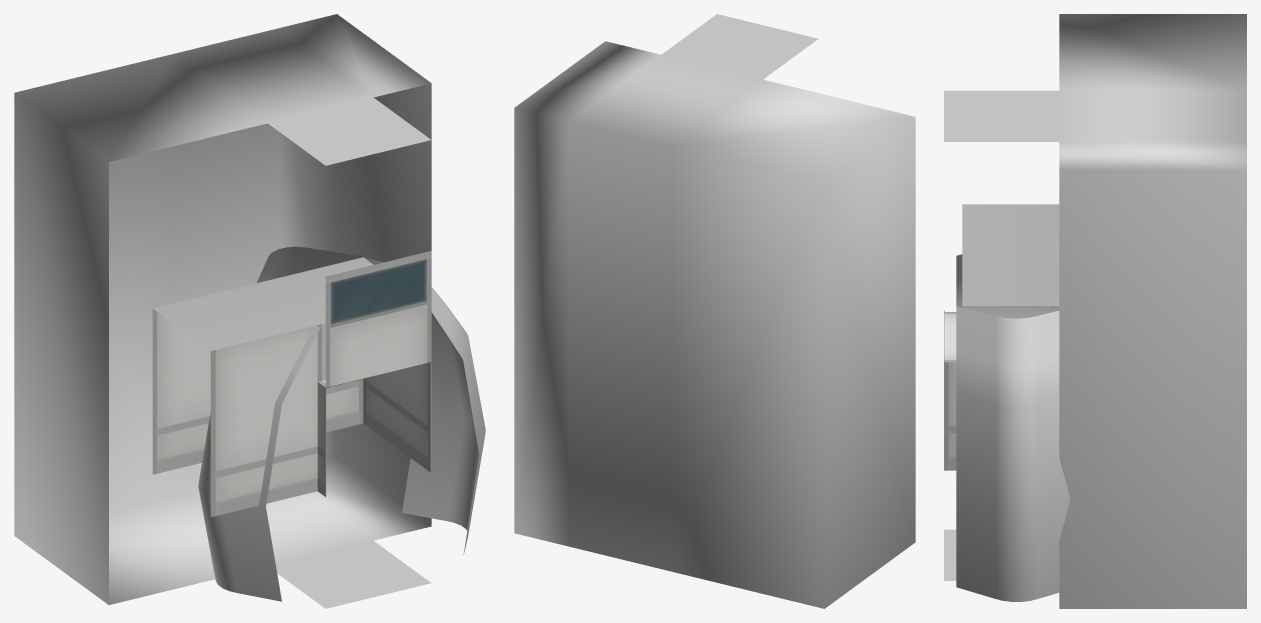
File: entrance-down-2-m.glb
3 renders of one model, left to right at view 1: azimuth 30°, elevation 25°; view 2: azimuth 150°, elevation 25°; view 3: azimuth 270°, elevation 25°, orthographic. The views are drawn at different scales.
Parts seen in each view (by area): view 1: RoomSpWallSimplePanel00__RoomSpWallSimplePanel00EntranceDown (×5); view 2: RoomSpWallSimplePanel00__RoomSpWallSimplePanel00EntranceDown; view 3: RoomSpWallSimplePanel00__RoomSpWallSimplePanel00EntranceDown (×4).
Part boxes in pixels (x1,y1,x2,y2): RoomSpWallSimplePanel00__RoomSpWallSimplePanel00EntranceDown (×5): [14, 14, 485, 608]; RoomSpWallSimplePanel00__RoomSpWallSimplePanel00EntranceDown: [514, 14, 915, 608]; RoomSpWallSimplePanel00__RoomSpWallSimplePanel00EntranceDown (×4): [944, 14, 1246, 608].
Bounding box in the file's own units: 66.3 × 80 × 50.
3 materials, 2 textured.
